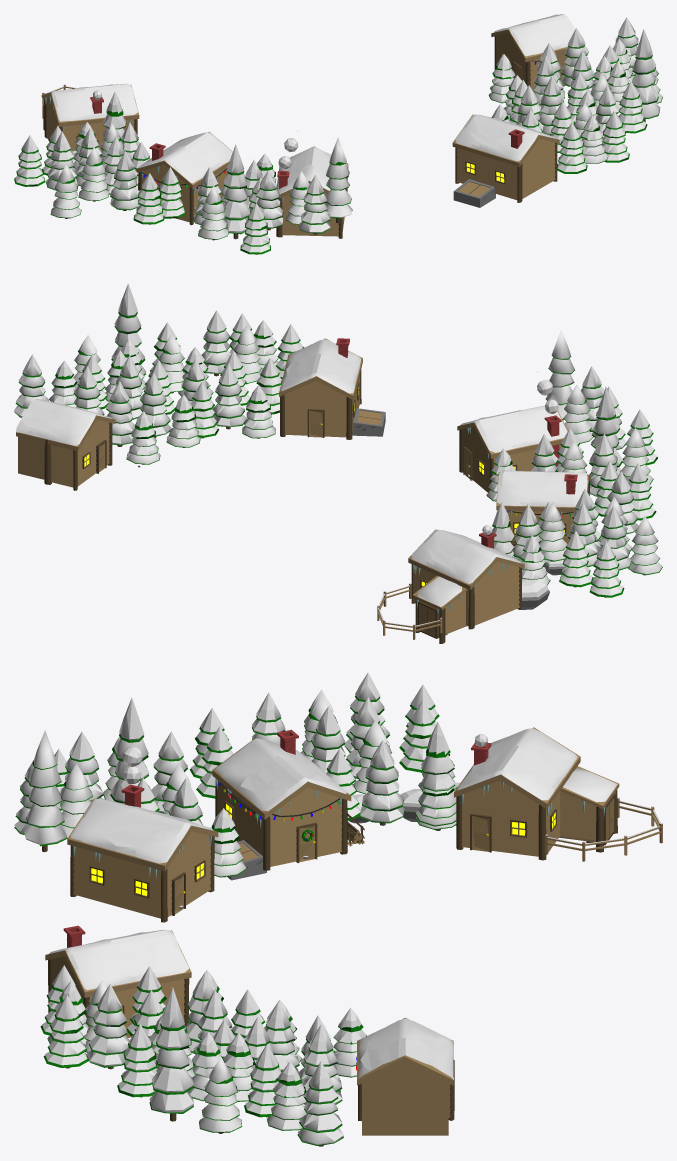
The model's file is SNOW.fbx.
The picture shows the model from 3 angles, top to bottom: view 1: azimuth 30°, elevation 25°; view 2: azimuth 150°, elevation 25°; view 3: azimuth 270°, elevation 25°; orthographic projection. The views are drawn at different scales.
Visible parts, largest first — view 1: House_4_Snow_0.002, House_4_Snow_0.001; view 2: House_4_Snow_0.002, House_4_Snow_0.001; view 3: House_4_Snow_0.002, House_4_Snow_0.001.
Part boxes in pixels (box(x1,y1,x2,y2)): House_4_Snow_0.002: box(14, 83, 352, 254); House_4_Snow_0.001: box(452, 14, 662, 207); House_4_Snow_0.002: box(377, 330, 662, 643); House_4_Snow_0.001: box(14, 283, 385, 490); House_4_Snow_0.002: box(14, 673, 662, 922); House_4_Snow_0.001: box(40, 925, 454, 1146).
Bounding box in the file's own units: 5455 × 1063 × 3670.
